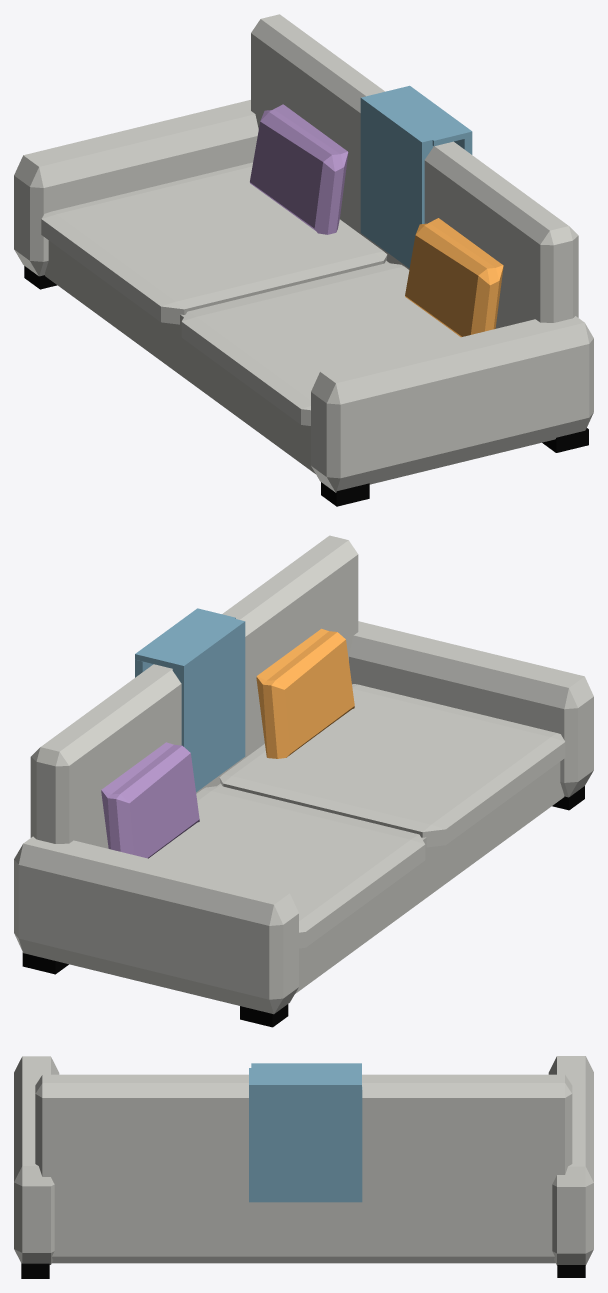
The model's file is couch.fbx.
3 renders of one model, top to bottom at view 1: azimuth 30°, elevation 25°; view 2: azimuth 150°, elevation 25°; view 3: azimuth 270°, elevation 25°, orthographic. The views are drawn at different scales.
Parts seen in each view (by area): view 1: Cube.003, Cube, Cube.004, Cube.001, Cube.002, Cube.009, Cube.007, Cube.005, Cube.006, Cube.008, Cube.011, Cube.012; view 2: Cube.002, Cube.001, Cube.004, Cube, Cube.003, Cube.009, Cube.007, Cube.006, Cube.005, Cube.008, Cube.010; view 3: Cube.004, Cube.014, Cube.002, Cube.003, Cube.008, Cube.007, Cube.012, Cube.013.
Part boxes in pixels (box(x1,y1,x2,y2)): Cube.003: box(311, 316, 593, 492); Cube: box(41, 162, 387, 324); Cube.004: box(251, 14, 578, 328); Cube.001: box(181, 263, 460, 425); Cube.002: box(14, 100, 258, 276); Cube.009: box(45, 240, 389, 473); Cube.007: box(360, 95, 433, 268); Cube.005: box(250, 104, 348, 234); Cube.006: box(405, 218, 503, 337); Cube.008: box(372, 85, 472, 146); Cube.011: box(321, 482, 369, 506); Cube.012: box(542, 428, 588, 452); Cube.002: box(14, 836, 298, 1014); Cube.001: box(219, 684, 565, 847); Cube.004: box(30, 535, 358, 848); Cube: box(149, 786, 425, 948); Cube.003: box(349, 621, 593, 797); Cube.009: box(217, 762, 564, 993); Cube.007: box(172, 618, 245, 792); Cube.006: box(256, 628, 354, 758); Cube.005: box(101, 742, 199, 858); Cube.008: box(135, 608, 235, 668); Cube.010: box(240, 1004, 288, 1027); Cube.004: box(35, 1074, 572, 1263); Cube.014: box(249, 1087, 362, 1202); Cube.002: box(548, 1056, 593, 1265); Cube.003: box(14, 1056, 59, 1264); Cube.008: box(249, 1068, 361, 1089); Cube.007: box(251, 1063, 361, 1068); Cube.012: box(21, 1263, 49, 1278); Cube.013: box(557, 1265, 585, 1277).
Bounding box in the file's own units: 103 × 79.31 × 211.
